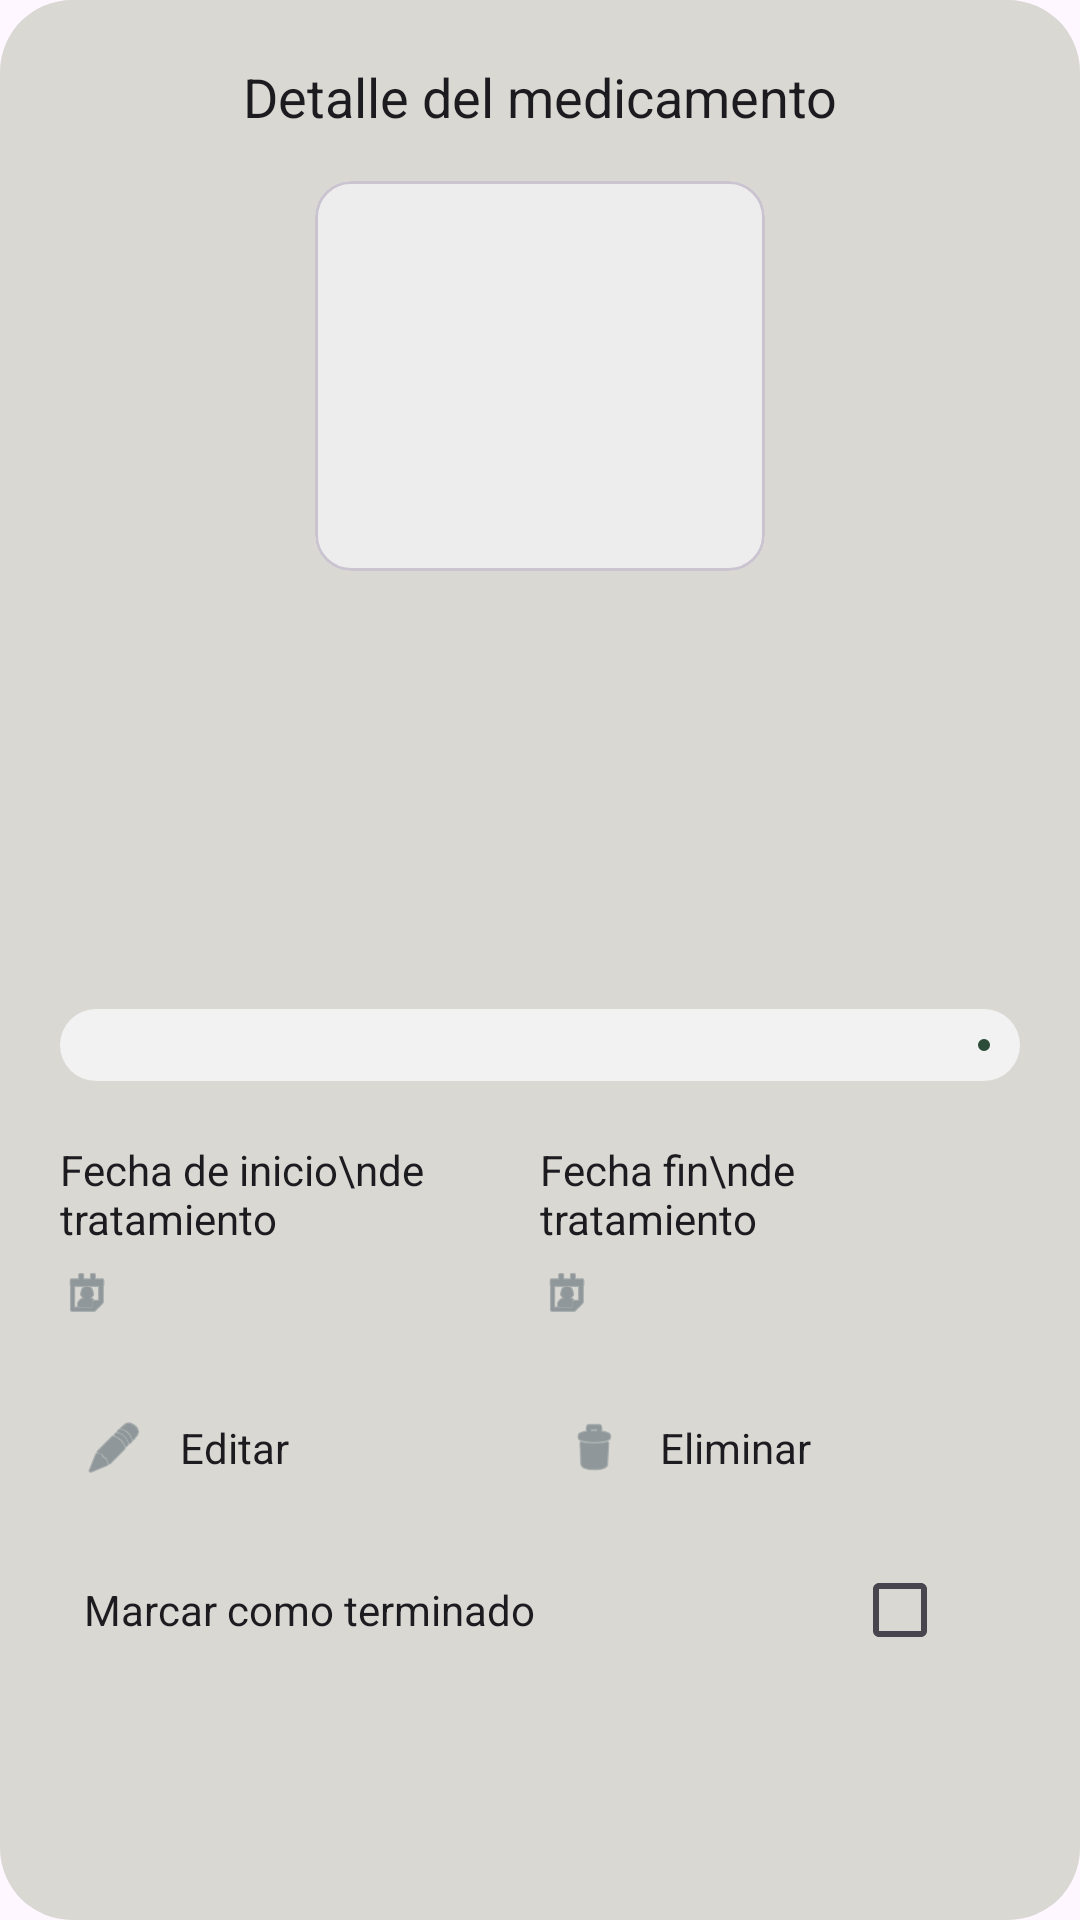

Named icons in this screenshot (1080px×1920px) and their bounding boxes, detection(x1, y1, x2, y2):
calendar: detection(70, 1273, 104, 1312), detection(550, 1273, 584, 1312)
delete: detection(578, 1424, 611, 1470)
